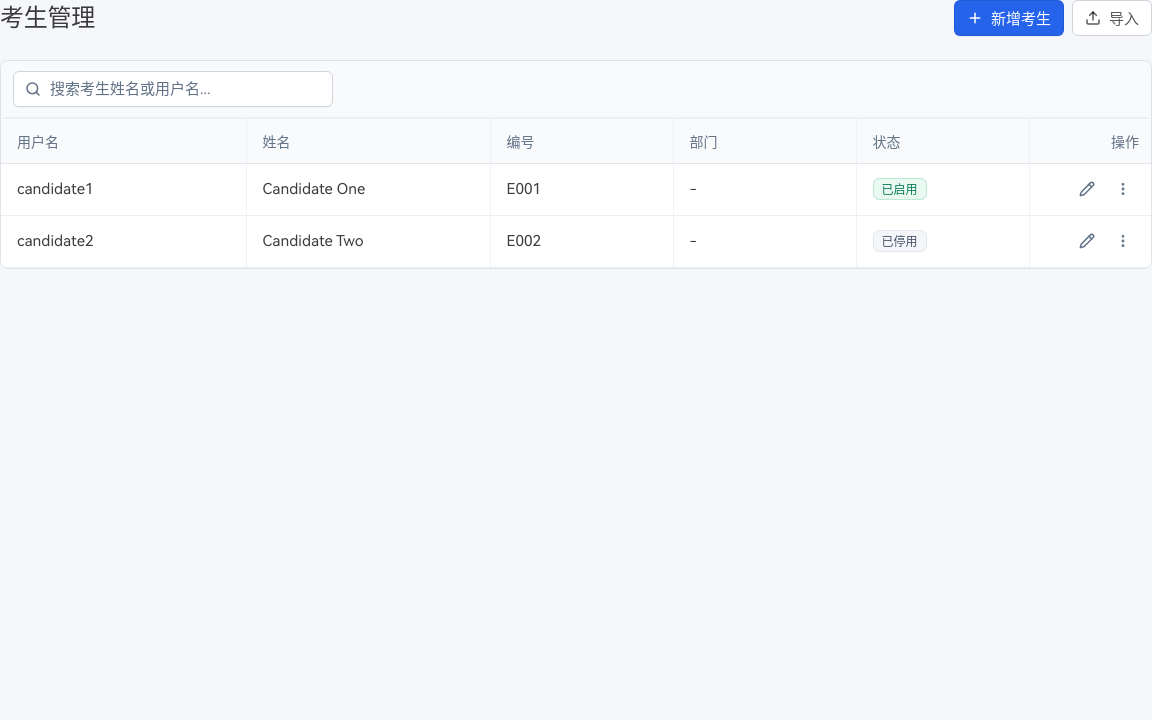
it: CandidatesPage › opens create dialog with dynamic fields
Step 1. Click the button "新增考生" → coordinates (1009, 18), box [954, 0, 1064, 36]
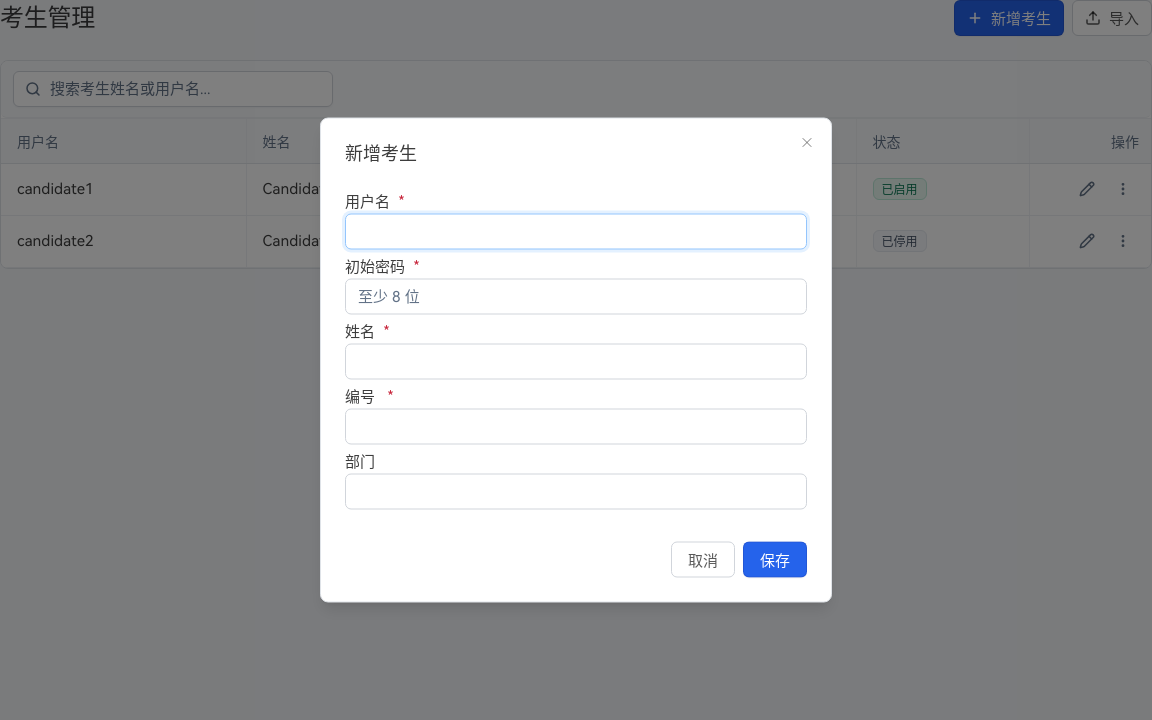
Result: the dialog is shown at [320, 118, 832, 602]
Result: the heading "新增考生" is shown at [345, 138, 417, 164]
